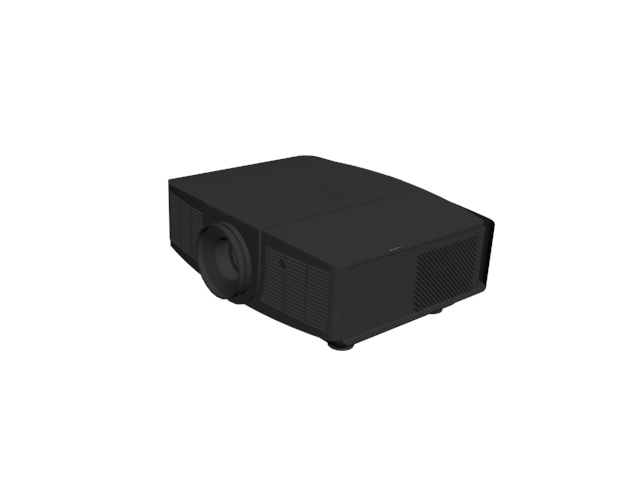projector: (161, 153, 496, 352)
